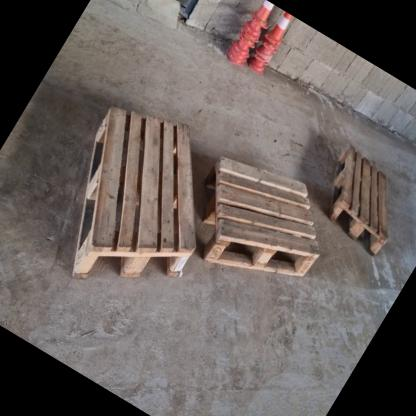BoxFace: (70, 107, 196, 280), (198, 154, 322, 282), (329, 144, 390, 259)
